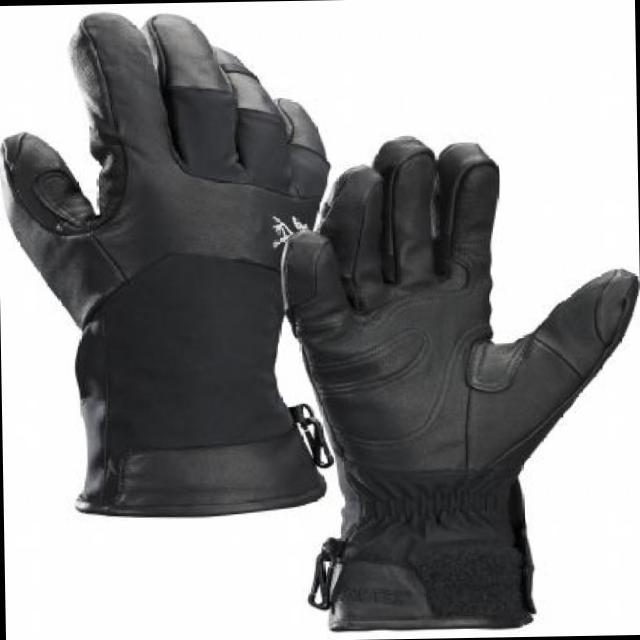glove: (284, 138, 638, 633), (0, 17, 328, 528)
